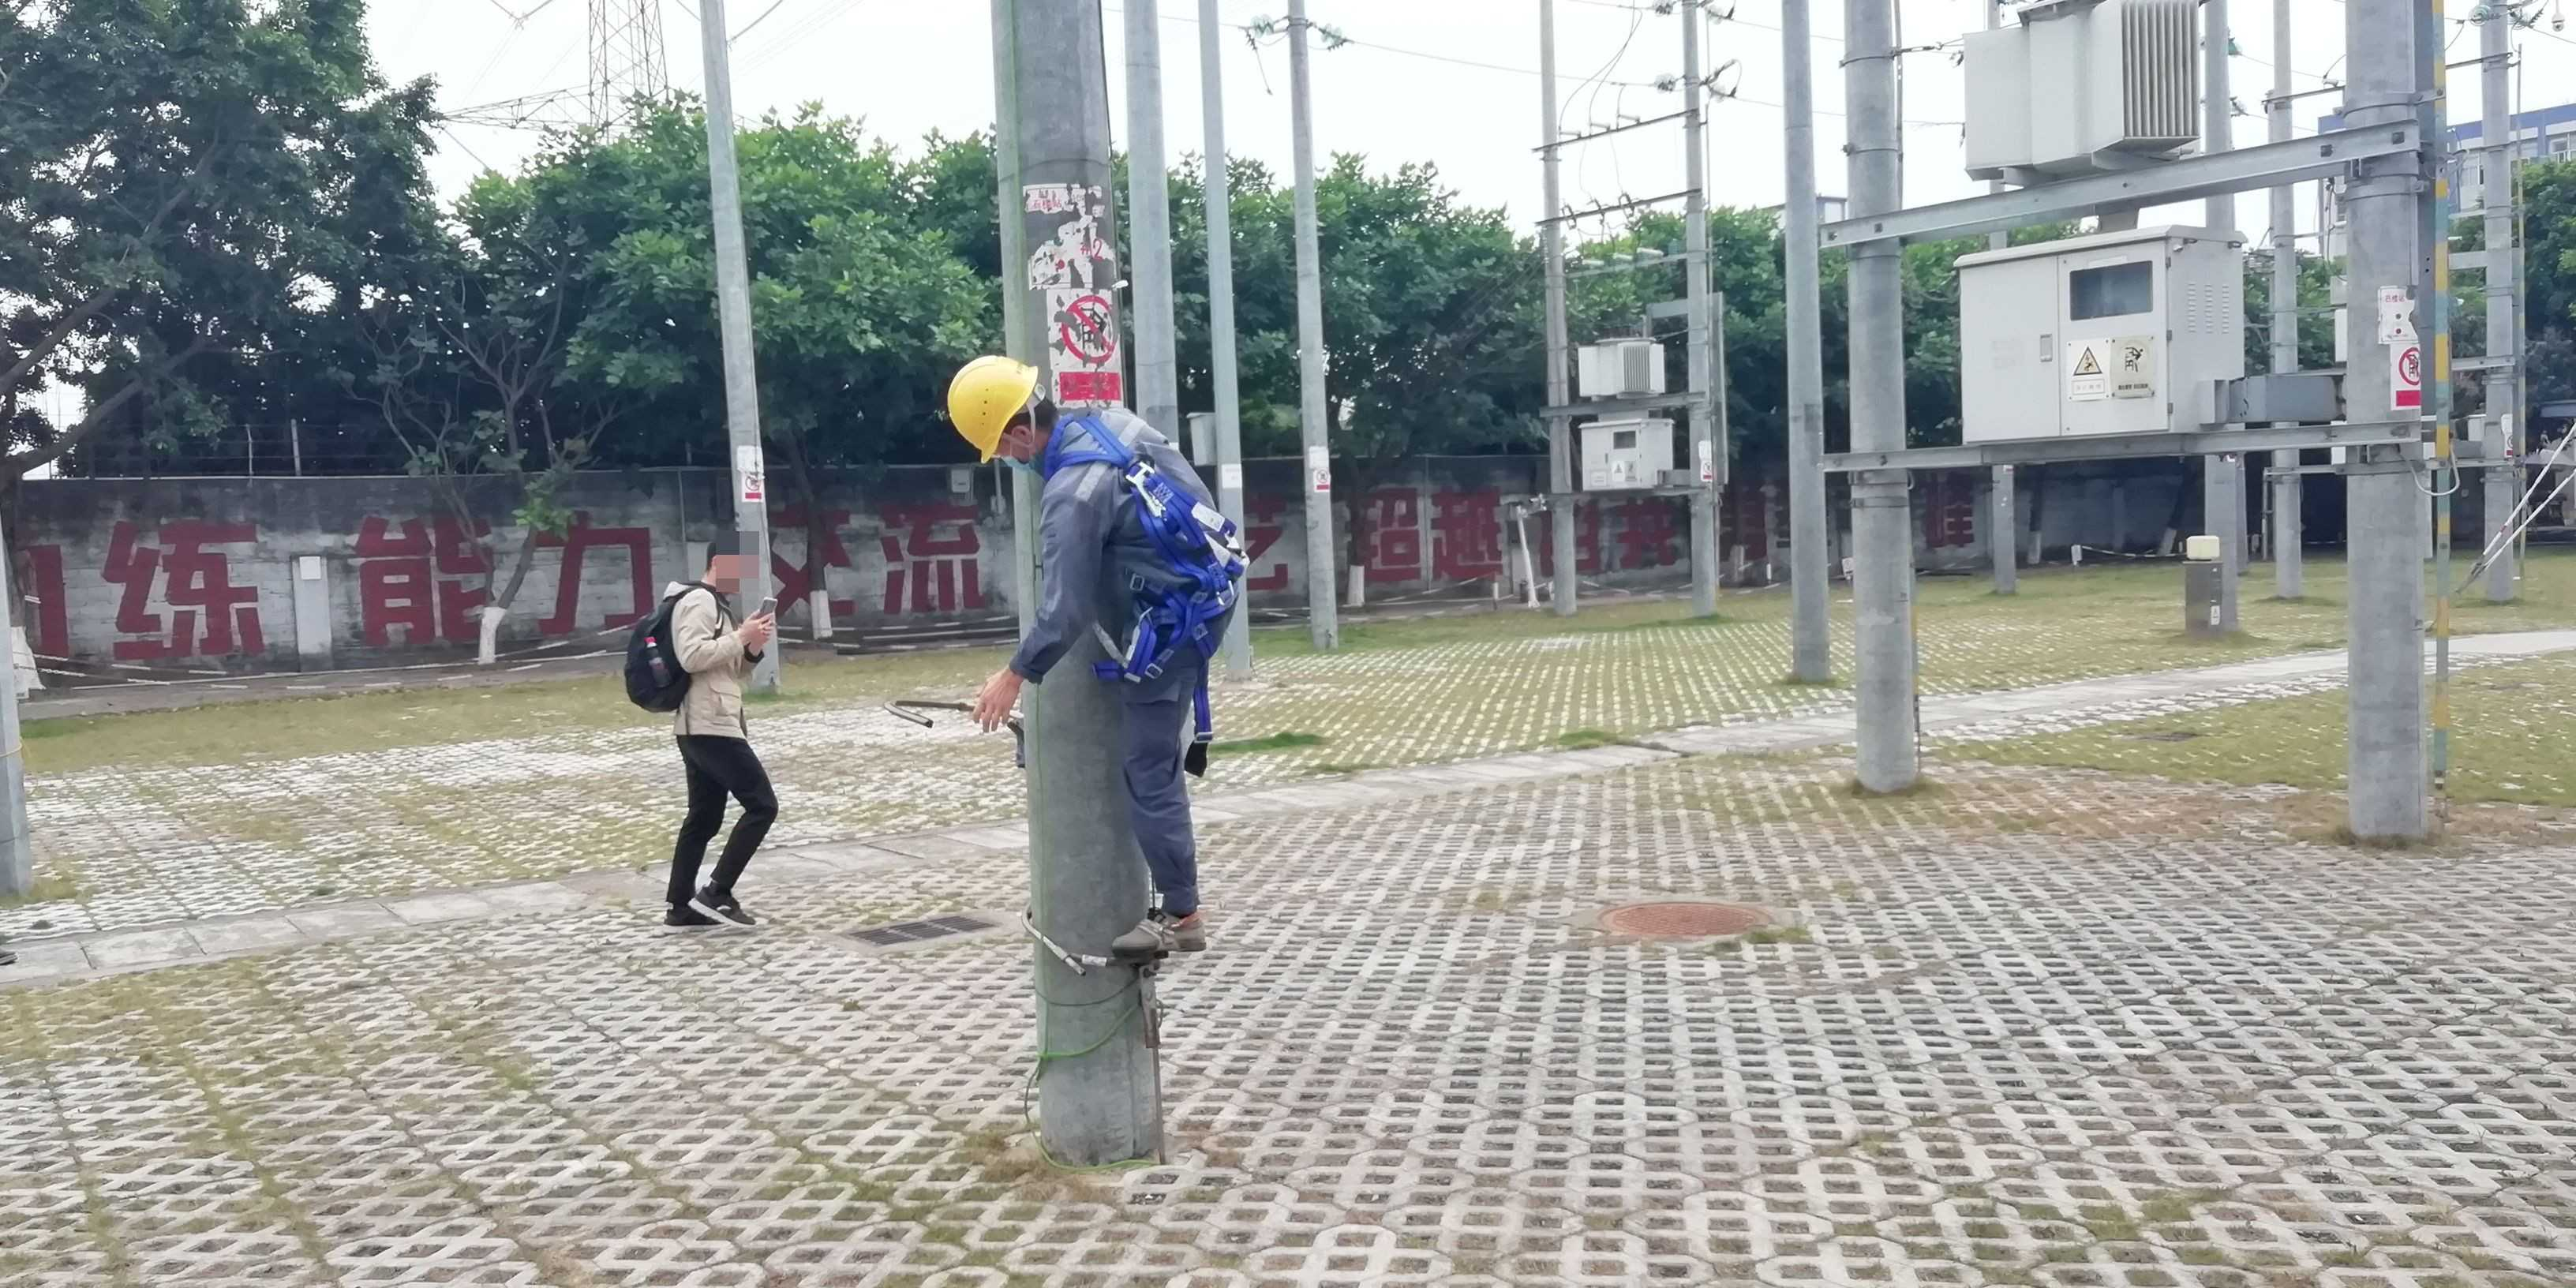downcloth: (665, 744, 779, 905)
downsuit: (1107, 619, 1216, 908)
upcloth: (664, 591, 772, 744)
upsuit: (1037, 409, 1232, 600)
